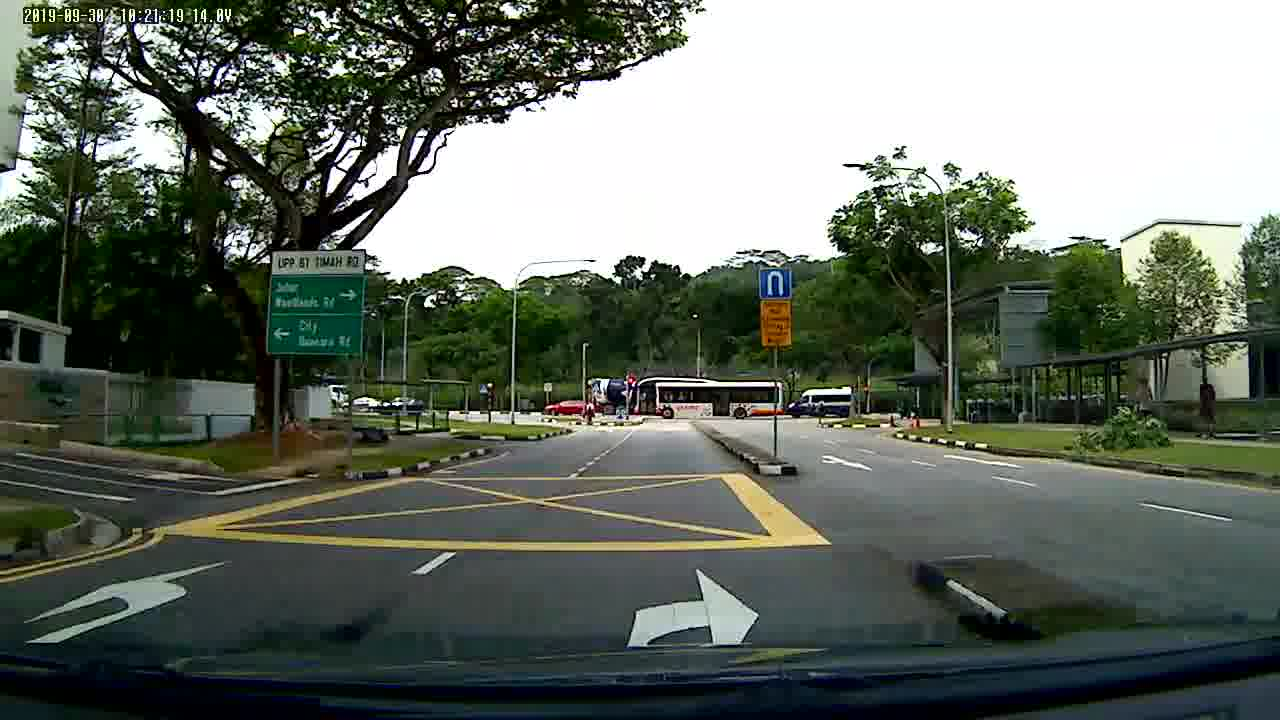bus: (626, 375, 785, 421)
car: (543, 399, 600, 420)
